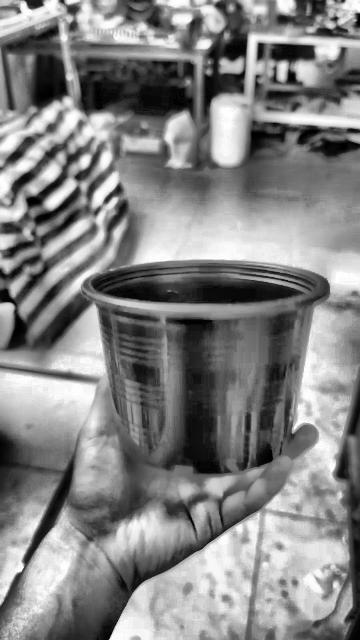pot: (81, 258, 327, 475)
